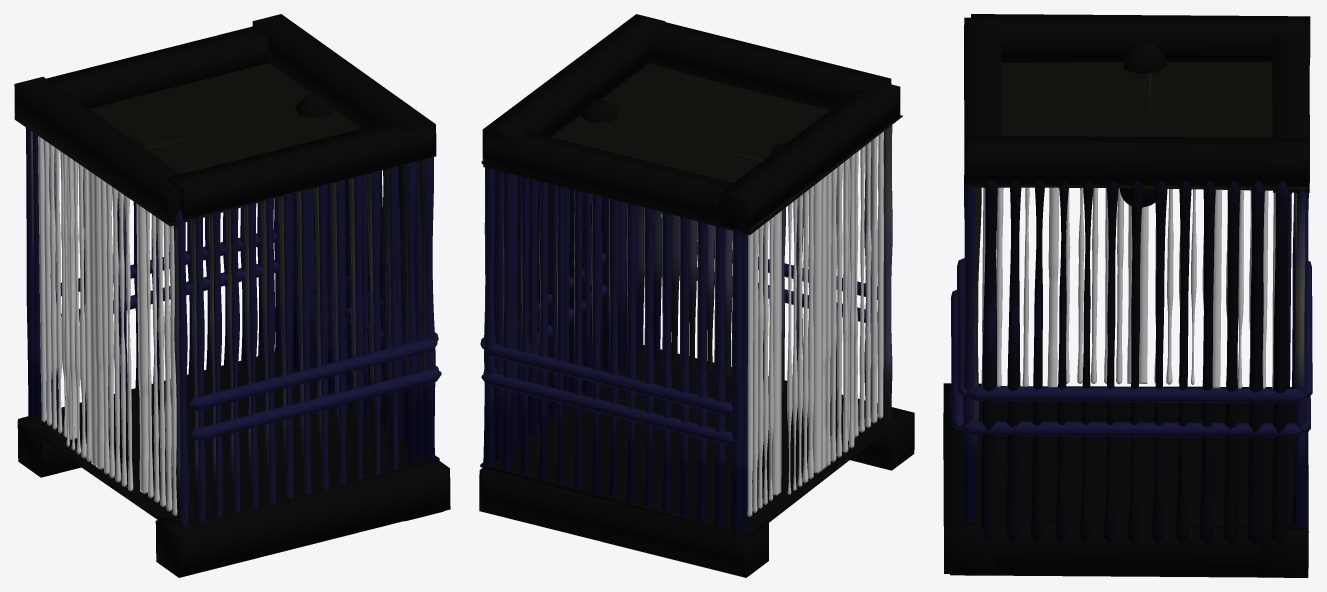
File: Working-Coalmine_Cave.fbx
3 views of the same model, side by side, from view 1: azimuth 30°, elevation 25°; view 2: azimuth 150°, elevation 25°; view 3: azimuth 270°, elevation 25° (orthographic). The views are drawn at different scales.
Visible parts, largest first — view 1: Cave, Shadows, polySurface27, polySurface14, polySurface24, polySurface15, polySurface12, polySurface16, polySurface13, polySurface28, polySurface11, polySurface10 (+15 smaller); view 2: Cave, Shadows, polySurface1, polySurface28, polySurface25, polySurface24, polySurface2, polySurface12, polySurface16, polySurface11, polySurface17, polySurface23 (+15 smaller); view 3: Cave, Shadows, polySurface27, polySurface28, polySurface1, polySurface24, polySurface15, polySurface17, polySurface3, polySurface18, polySurface22, polySurface9 (+8 smaller).
Boxes of the visible parts, x1,y1,x2,y2 form: Cave: (14,14,450,577); Shadows: (31,131,427,525); polySurface27: (136,203,150,493); polySurface14: (92,173,104,469); polySurface24: (163,222,172,511); polySurface15: (100,179,109,474); polySurface12: (38,136,46,422); polySurface16: (106,182,114,478); polySurface13: (32,132,41,418); polySurface28: (63,156,77,439); polySurface11: (43,139,51,425); polySurface10: (48,143,57,429); Cave: (479,14,914,577); Shadows: (483,125,892,526); polySurface1: (812,178,823,473); polySurface28: (769,210,781,495); polySurface25: (877,131,883,418); polySurface24: (871,136,877,423); polySurface2: (807,186,813,479); polySurface12: (747,233,753,516); polySurface16: (830,168,836,461); polySurface11: (752,229,758,512); polySurface17: (836,163,842,457); polySurface23: (865,141,871,427); Cave: (943,14,1312,577); Shadows: (972,179,1305,544); polySurface27: (1047,187,1059,387); polySurface28: (1212,189,1221,388); polySurface1: (1139,206,1148,383); polySurface24: (996,187,1003,386); polySurface15: (1116,188,1123,384); polySurface17: (1091,188,1098,384); polySurface3: (1166,189,1173,384); polySurface18: (1077,188,1084,383); polySurface22: (1022,187,1029,386); polySurface9: (1237,190,1243,388).
Size of the model in its own units: 0.8864 by 1.19 by 0.9313.
